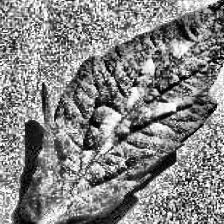leaf mold: (25, 0, 224, 224)
